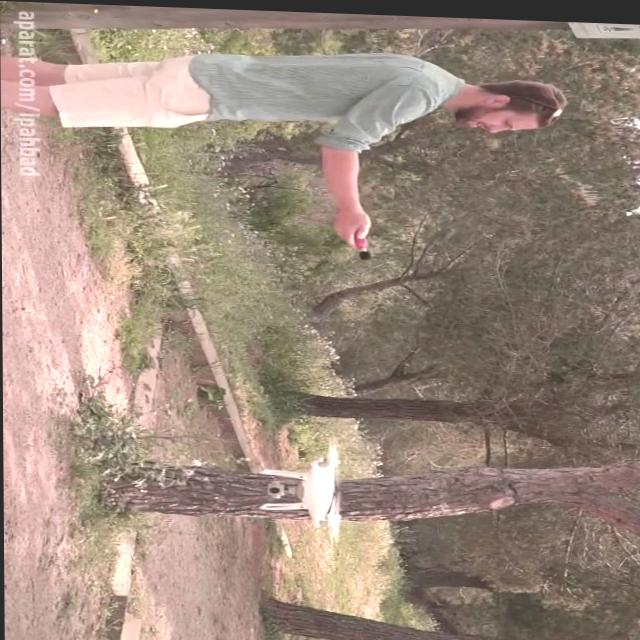drone: (260, 435, 344, 540)
